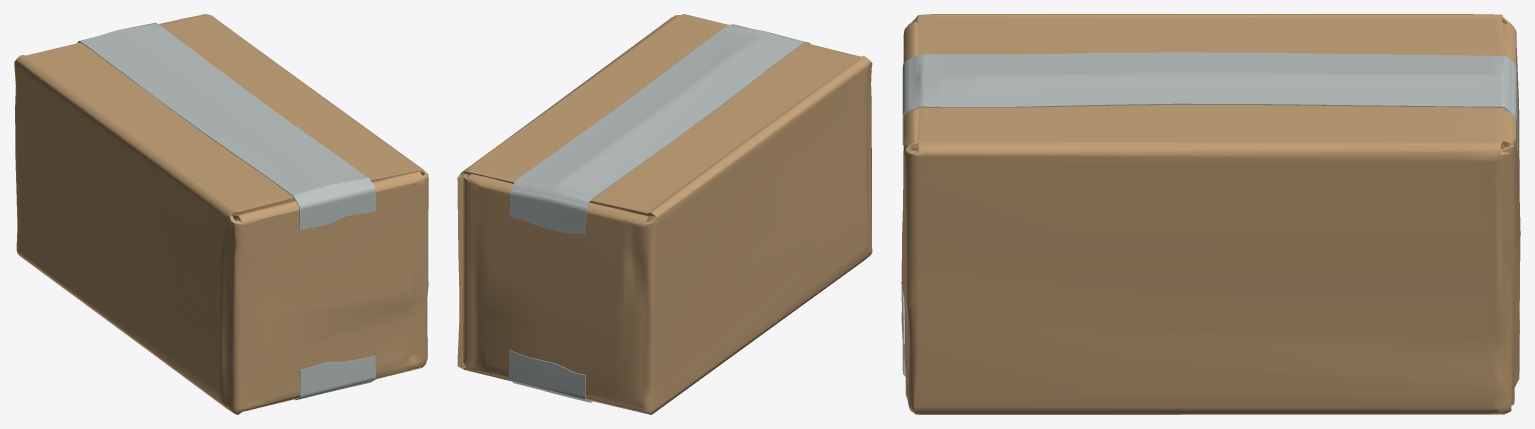
File: box_long_a01.glb
3 views of the same model, side by side, from view 1: azimuth 30°, elevation 25°; view 2: azimuth 150°, elevation 25°; view 3: azimuth 270°, elevation 25° (orthographic). The views are drawn at different scales.
Size of the model in its own units: 0.0802 by 0.0797 by 0.1557.
